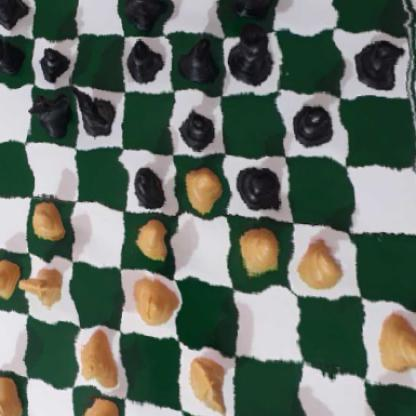black-bishop: (178, 34, 224, 89), (128, 38, 163, 87)
black-king: (225, 26, 273, 89)
black-knight: (71, 85, 114, 140), (24, 90, 69, 139)
black-pawn: (349, 37, 408, 90), (236, 159, 287, 216), (288, 97, 340, 150), (131, 158, 171, 210), (177, 102, 217, 150), (41, 42, 68, 82), (0, 37, 24, 73)
black-queen: (124, 0, 167, 31)
black-rook: (227, 0, 277, 26), (0, 0, 29, 29)
white-bishop: (133, 271, 173, 328), (78, 389, 122, 416)
white-knight: (187, 353, 235, 416), (16, 259, 69, 309)
white-pawn: (292, 228, 348, 295), (369, 307, 416, 386), (236, 221, 285, 281), (133, 218, 174, 265), (179, 159, 217, 209), (30, 198, 65, 243), (0, 255, 20, 301)
white-queen: (77, 325, 120, 395)
white-rook: (0, 368, 24, 416)
